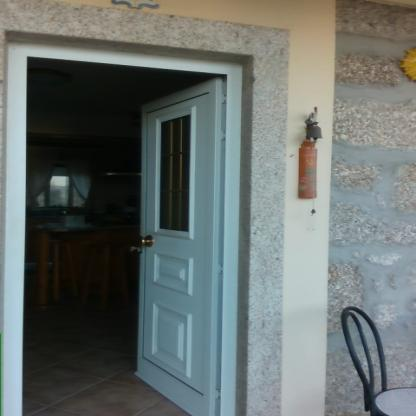open: (18, 40, 247, 414)
